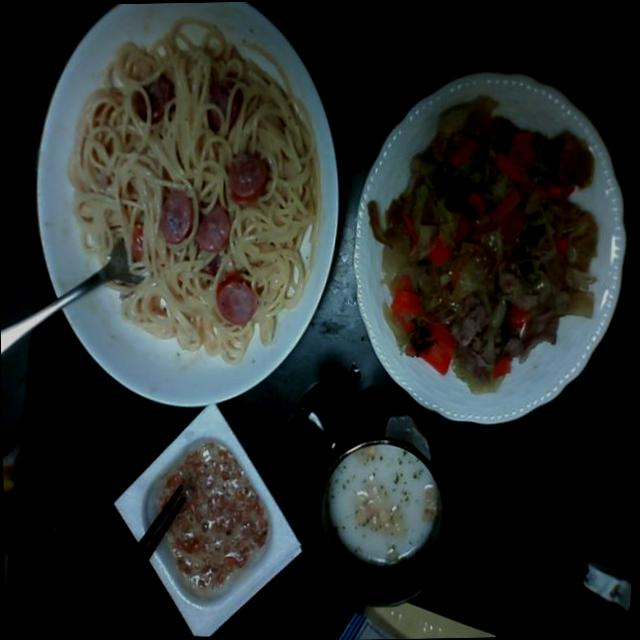Pasta: (55, 10, 336, 364)
